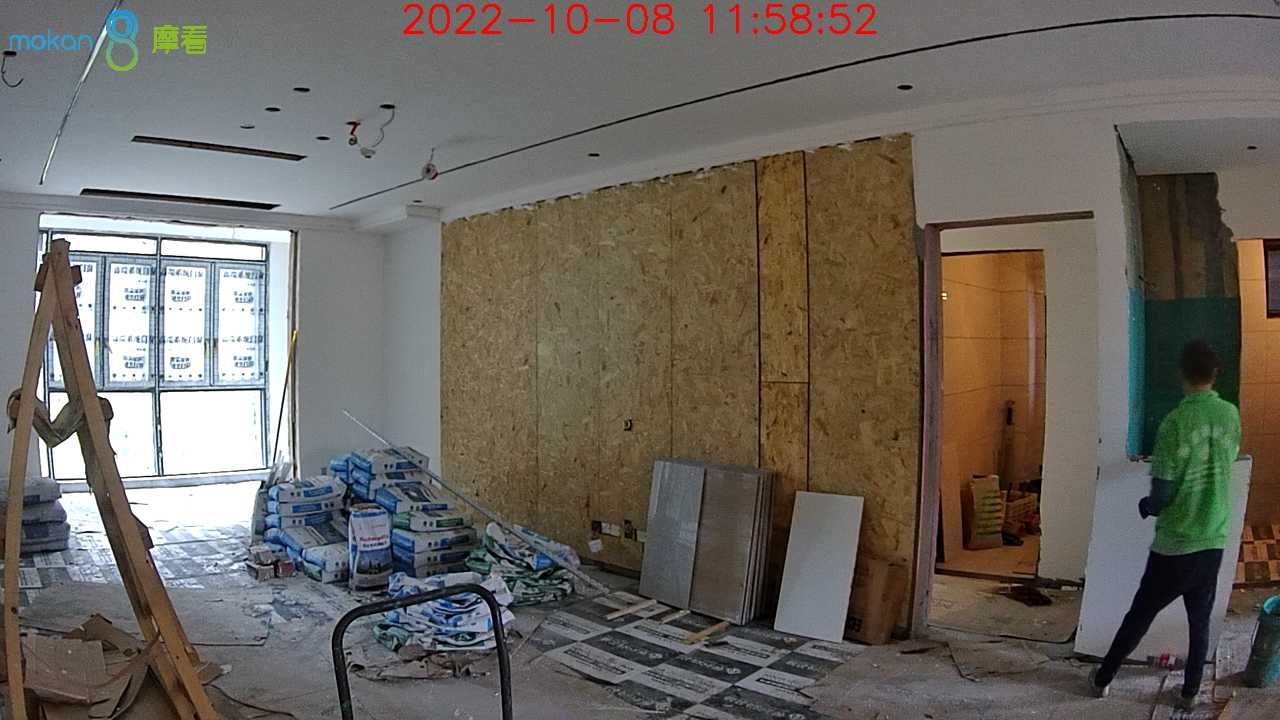people: (1089, 341, 1243, 708)
window: (42, 227, 276, 481)
